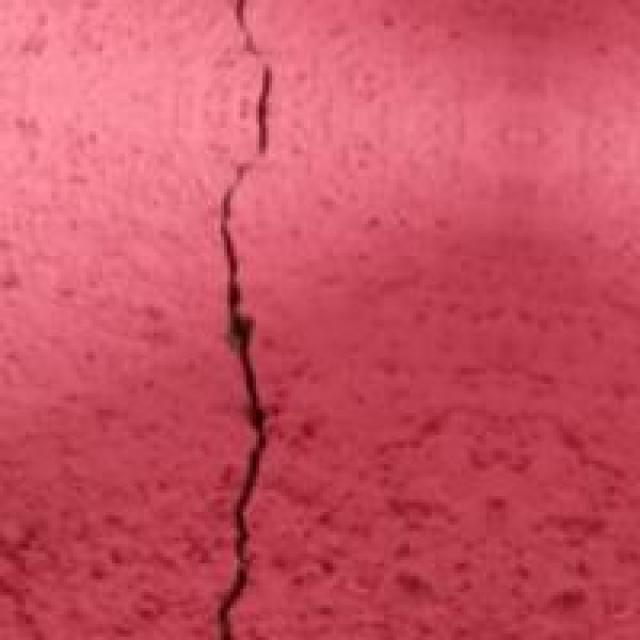crack: (150, 0, 336, 637)
